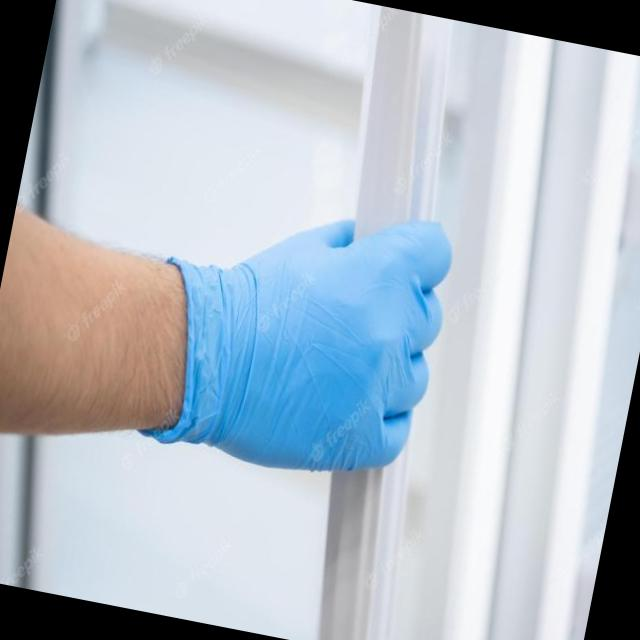Gloves: (151, 182, 494, 506)
